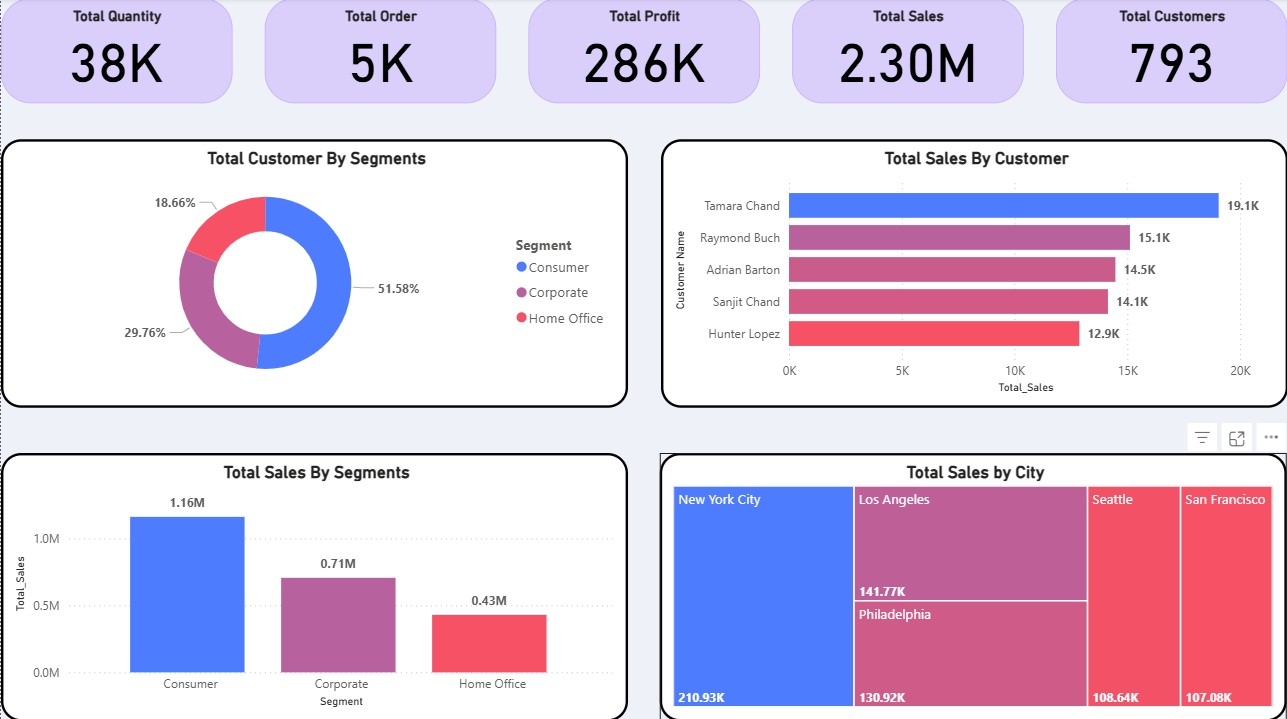

The dashboard page shown, as its layout file describes it:
{"tool":"powerbi","page":{"name":"Page 4","canvas":[1280,720],"ordinal":3},"visuals":[{"type":"donutChart","title":"Total Customer By Segments","fields":{"Category":["CustomerDim.Segment"],"Y":["DAXmeasure.Total_Customers"]},"box":[0,140,623.8,267.5],"z":0},{"type":"cardVisual","title":"Total Customers","fields":{"Data":["DAXmeasure.Total_Customers"]},"box":[1050,0,230,105],"z":1000},{"type":"cardVisual","title":"Total Profit","fields":{"Data":["DAXmeasure.Total_Profit"]},"box":[525,0,230,105],"z":2000},{"type":"cardVisual","title":"Total Sales","fields":{"Data":["DAXmeasure.Total_Sales"]},"box":[787.5,0,230,105],"z":3000},{"type":"clusteredColumnChart","title":"Total Sales By Segments","fields":{"Category":["CustomerDim.Segment"],"Y":["DAXmeasure.Total_Sales"]},"box":[0,452.5,623.8,267.5],"z":4000},{"type":"cardVisual","title":"Total Order","fields":{"Data":["DAXmeasure.Total_Order"]},"box":[262.5,0,230,105],"z":5000},{"type":"cardVisual","title":"Total Quantity","fields":{"Data":["DAXmeasure.Total_Quantity"]},"box":[0,0,230,105],"z":6000},{"type":"barChart","title":"Total Sales By Customer","fields":{"Category":["CustomerDim.Customer Name"],"Y":["DAXmeasure.Total_Sales"]},"box":[656.2,140,623.8,267.5],"z":7000},{"type":"treemap","title":"Total Sales by City","fields":{"Values":["DAXmeasure.Total_Sales"],"Group":["CustomerDim.City"]},"box":[656,453,624,267],"z":8000}]}

Visuals, with their boxes in screenshot pixels (x1, y1, x2, y2), scaled from the page's 1280x720 canvas onto the 1287x719 screenshot:
"Total Customer By Segments" donutChart: 0/140/627/407
"Total Customers" cardVisual: 1056/0/1286/105
"Total Profit" cardVisual: 528/0/759/105
"Total Sales" cardVisual: 792/0/1023/105
"Total Sales By Segments" clusteredColumnChart: 0/452/627/718
"Total Order" cardVisual: 264/0/495/105
"Total Quantity" cardVisual: 0/0/231/105
"Total Sales By Customer" barChart: 660/140/1286/407
"Total Sales by City" treemap: 660/452/1286/718
